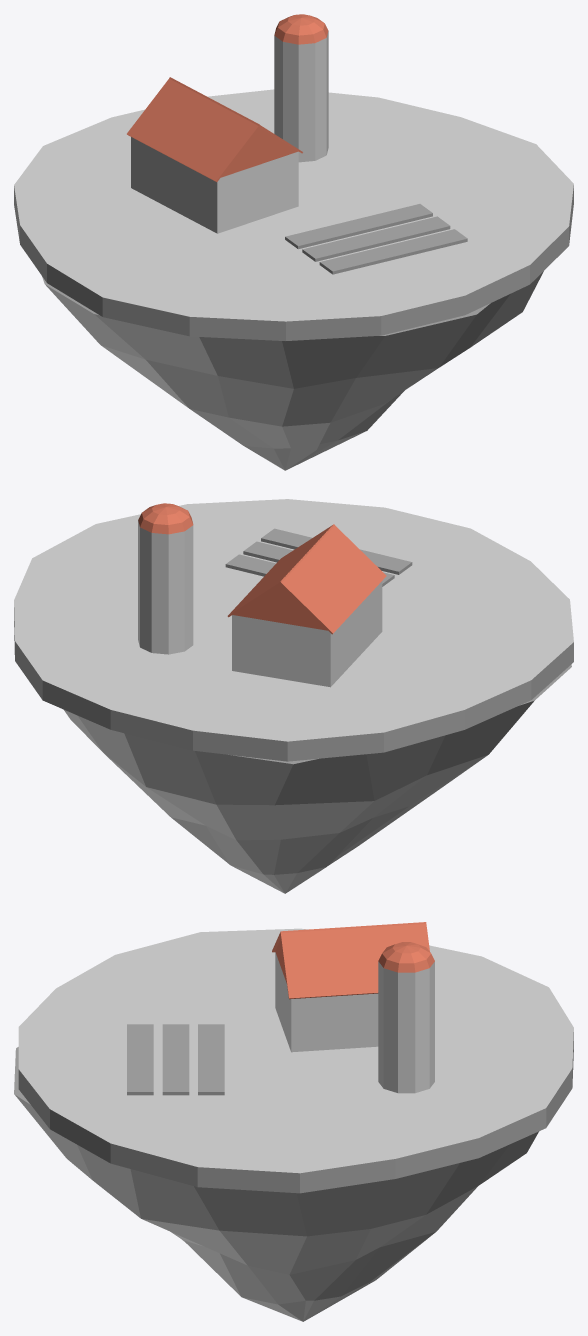
File: island_farm.glb
3 views of the same model, one above another, from view 1: azimuth 30°, elevation 25°; view 2: azimuth 150°, elevation 25°; view 3: azimuth 270°, elevation 25° (orthographic). The views are drawn at different scales.
Parts seen in each view (by area): view 1: Island-col; view 2: Island-col; view 3: Island-col.
Part boxes in pixels (x1,y1,x2,y2): Island-col: (14,14,573,470); Island-col: (14,499,573,893); Island-col: (14,922,573,1321).
Bounding box in the file's own units: 65.61 × 50.92 × 63.1.
